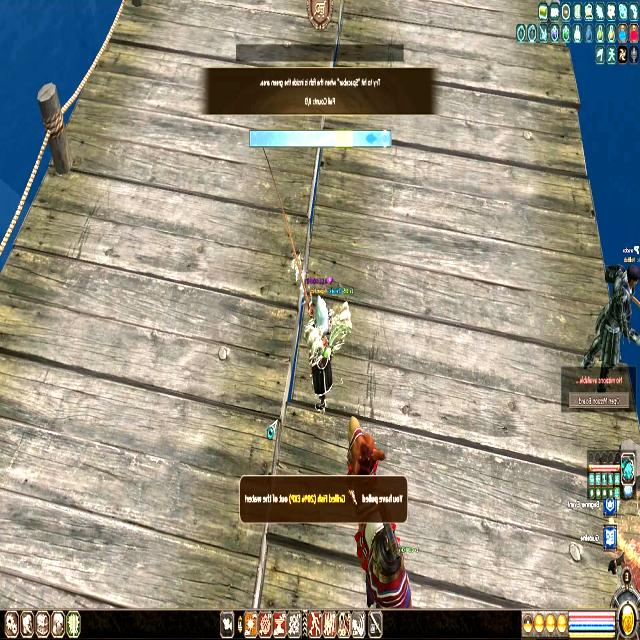fishes: (366, 132, 376, 144)
